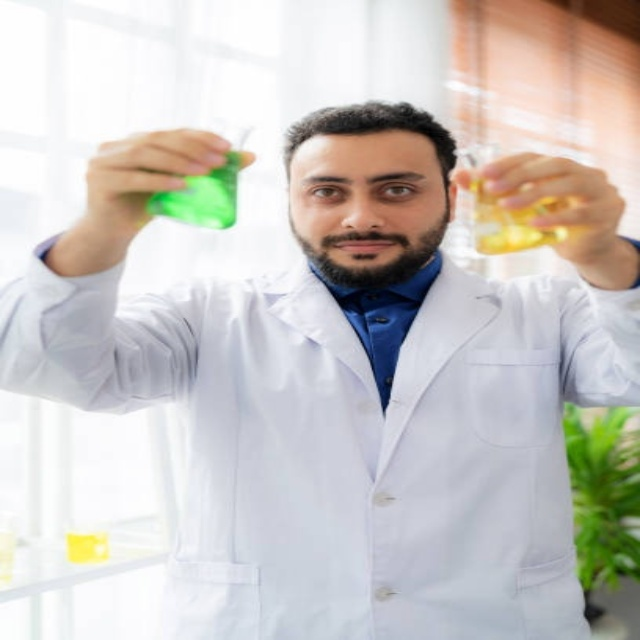Sin_gafas: (296, 165, 430, 203)
Sin_guantes: (458, 150, 623, 260), (83, 126, 252, 230)
Sin_mascara: (317, 228, 409, 267)
